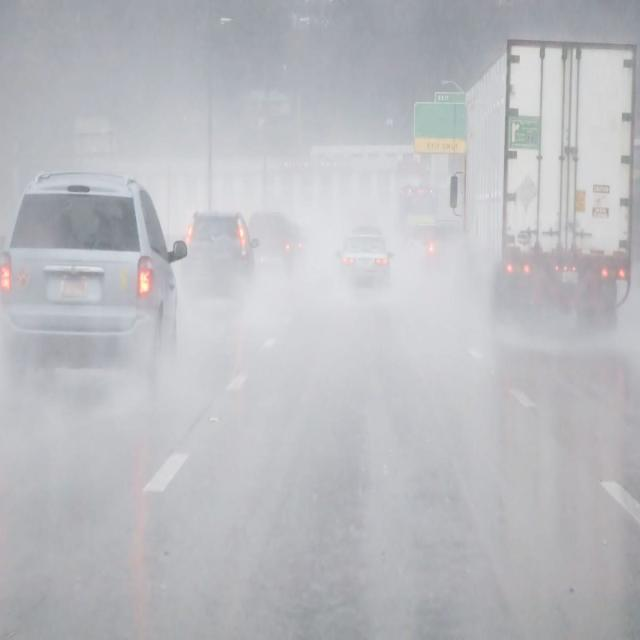bus: (454, 40, 636, 338), (397, 182, 439, 260)
car: (0, 164, 187, 402), (178, 211, 252, 303), (248, 210, 290, 276), (339, 228, 391, 276), (427, 217, 462, 271), (406, 230, 431, 270), (290, 210, 301, 279)
